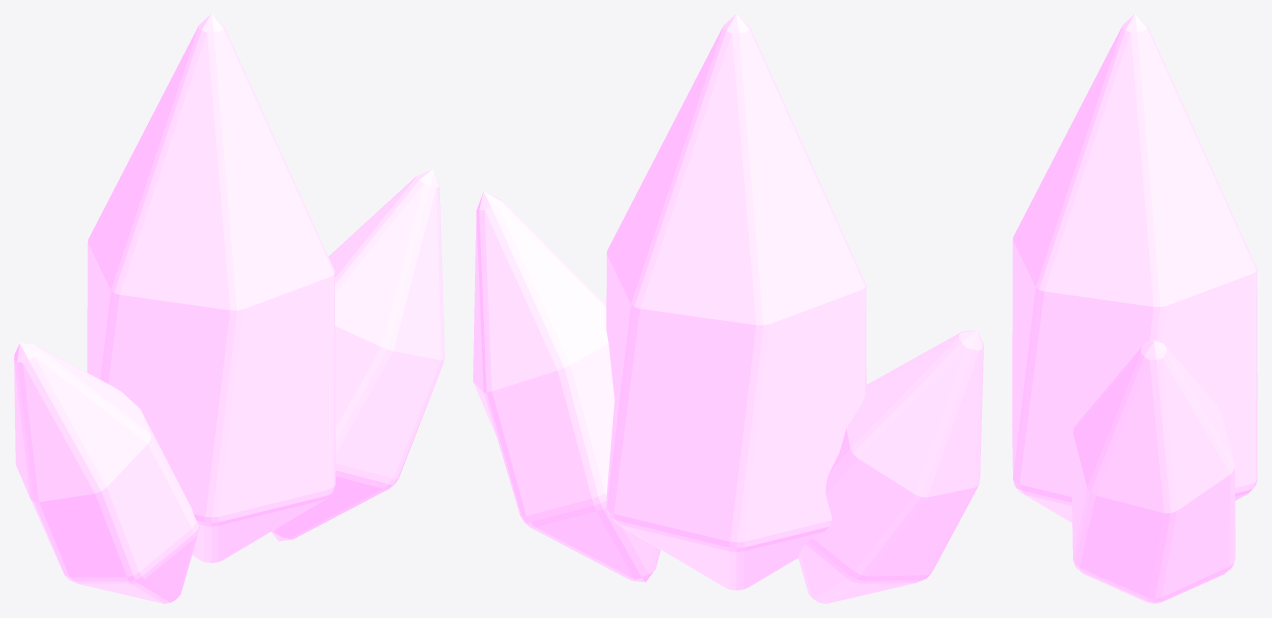
The model's file is SH10_Pickup_SoulGem_T2.fbx.
The picture shows the model from 3 angles, left to right: view 1: azimuth 30°, elevation 25°; view 2: azimuth 150°, elevation 25°; view 3: azimuth 270°, elevation 25°; orthographic projection. The views are drawn at different scales.
Parts seen in each view (by area): view 1: Crystal0, Crystal2, Crystal1; view 2: Crystal0, Crystal1, Crystal2; view 3: Crystal0, Crystal1.
Part boxes in pixels (bbox=[...]): Crystal0: bbox=[87, 14, 335, 563]; Crystal2: bbox=[14, 343, 199, 603]; Crystal1: bbox=[271, 169, 444, 541]; Crystal0: bbox=[606, 14, 866, 590]; Crystal1: bbox=[473, 191, 660, 582]; Crystal2: bbox=[798, 330, 983, 603]; Crystal0: bbox=[1012, 14, 1257, 522]; Crystal1: bbox=[1072, 340, 1235, 603].
Bounding box in the file's own units: 0.5437 × 0.6444 × 0.2599.
